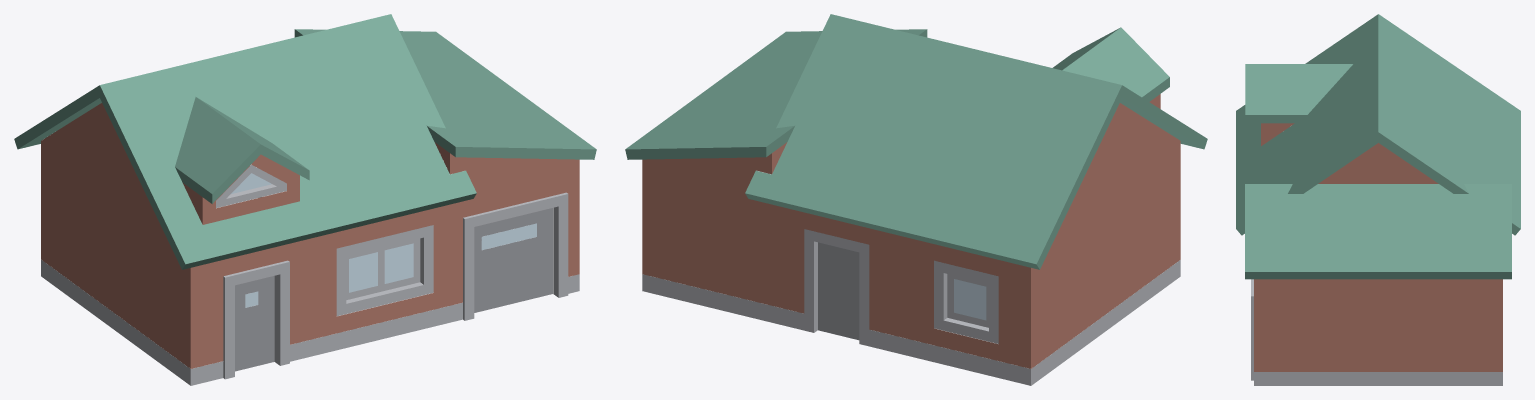
The model's file is house-4.glb.
The picture shows the model from 3 angles, left to right: view 1: azimuth 30°, elevation 25°; view 2: azimuth 150°, elevation 25°; view 3: azimuth 270°, elevation 25°; orthographic projection. The views are drawn at different scales.
Visible parts, largest first — view 1: house_type04; view 2: house_type04; view 3: house_type04.
Boxes of the visible parts, x1,y1,x2,y2 form: house_type04: (14,14,596,385); house_type04: (625,14,1207,385); house_type04: (1236,14,1520,385).
Bounding box in the file's own units: 1.29 × 0.7377 × 0.9162.
1 material, 1 textured.
